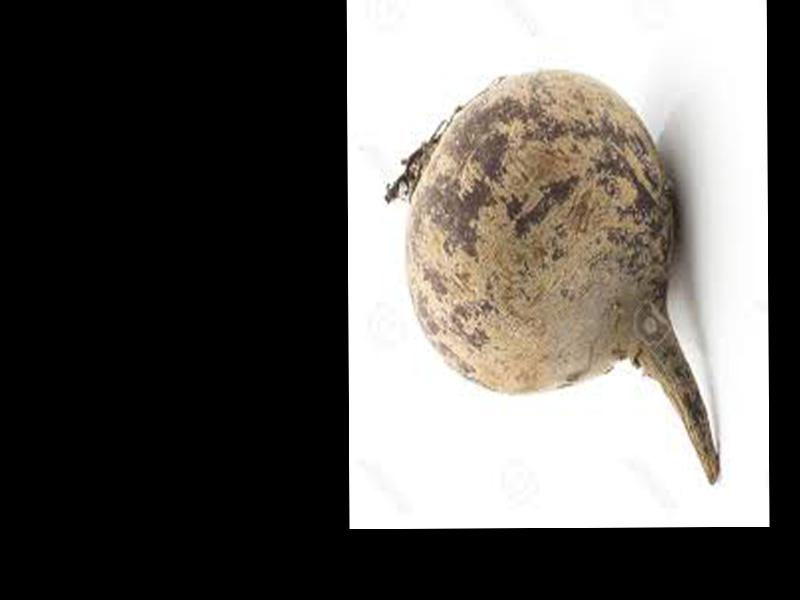Beet: (385, 68, 718, 483)
